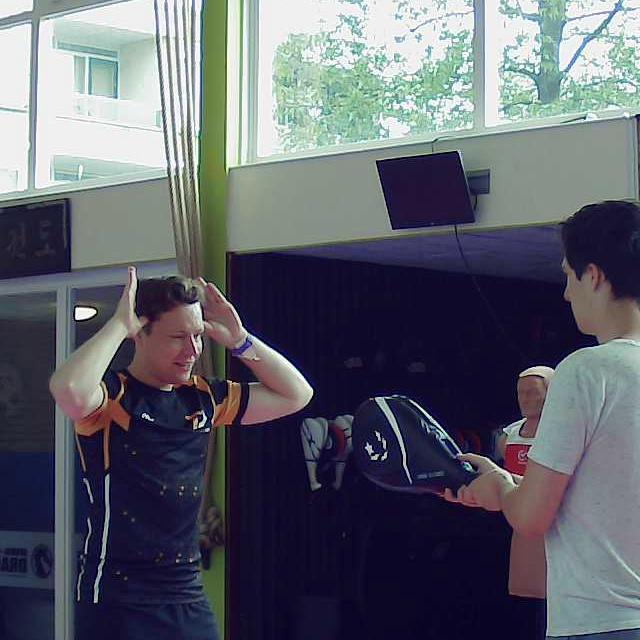paddle: (348, 393, 482, 503)
